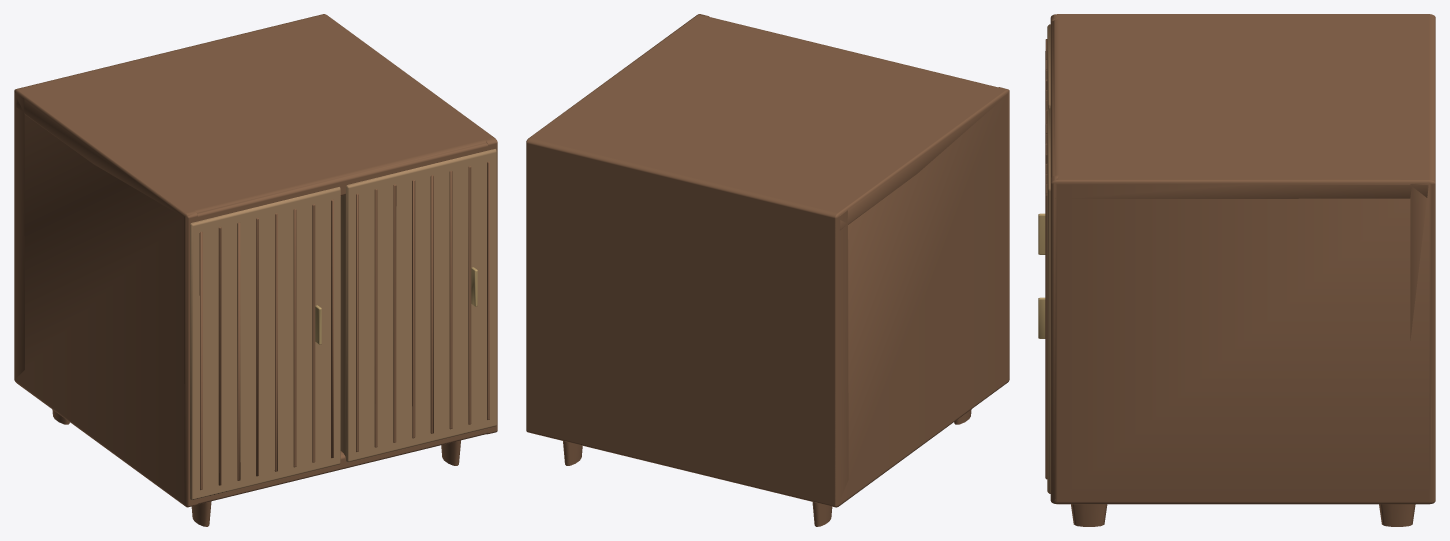
Rendered from cabinet-3-0.lod.glb.
3 renders of one model, left to right at view 1: azimuth 30°, elevation 25°; view 2: azimuth 150°, elevation 25°; view 3: azimuth 270°, elevation 25°, orthographic. The views are drawn at different scales.
Parts seen in each view (by area): view 1: part, upholstery; view 2: part; view 3: part, upholstery (×2).
Part boxes in pixels (box(x1,y1,x2,y2)): part: box(14, 14, 497, 526); upholstery: box(190, 149, 496, 500); part: box(526, 14, 1009, 526); part: box(1045, 14, 1435, 526); upholstery (×2): box(1038, 24, 1050, 493).
Size of the model in its own units: 1 by 1 by 1.
